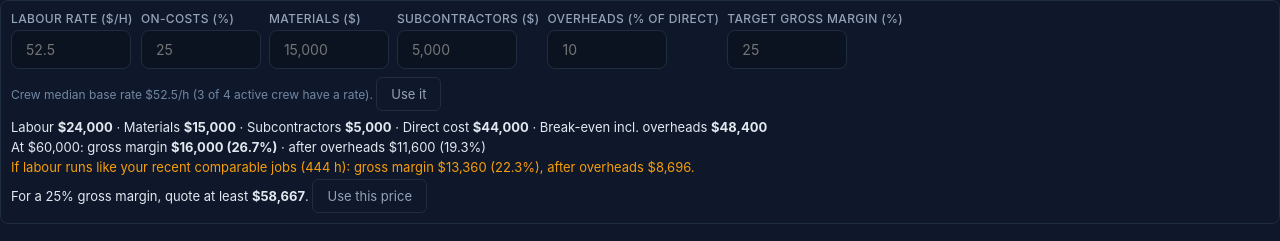
Test: EstimateBuilder › an invalid field is named and nothing is previewed or offered for saving
This screenshot has width=1280, height=241.
Type "120" into the field labelled "Target gross margin (%)" at (787, 50), box [727,30,847,69]
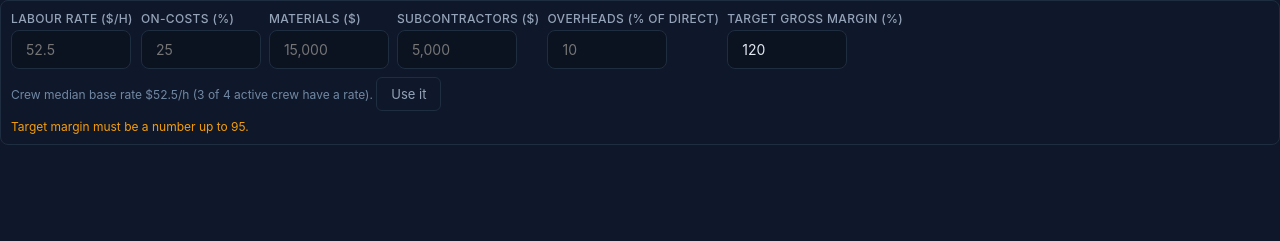
Check: the message shows "Target margin must be a number up to 95", box [11,119,249,134]
